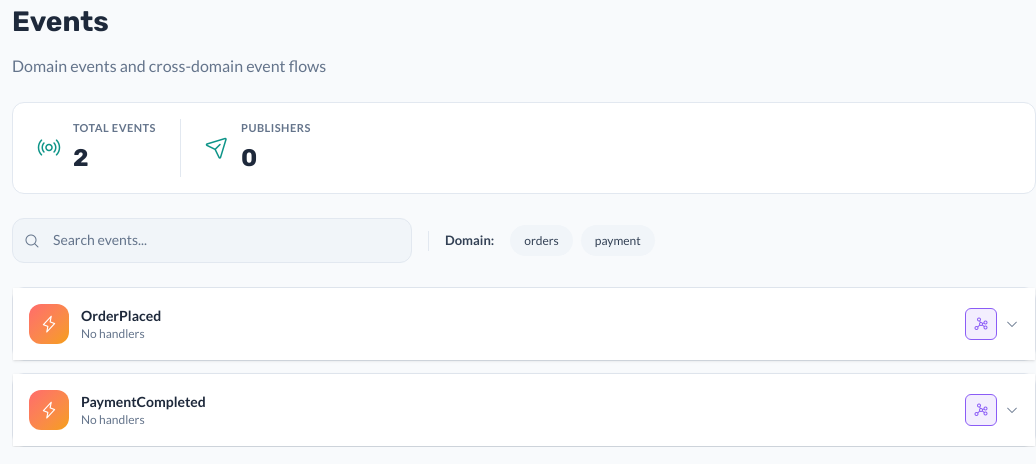
Test: EventsPage › filters events by domain
The width and height of the screenshot is (1036, 464).
Click the button "orders". click: [542, 241]
box: [510,225,573,256]
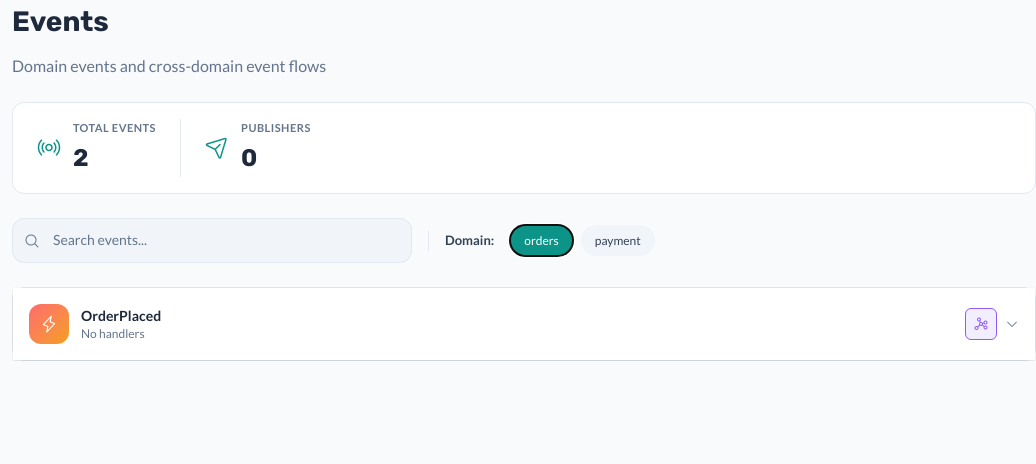
Expected: the text "OrderPlaced" is shown, [81,306,161,326]
Expected: the button "PaymentCompleted" is gone
